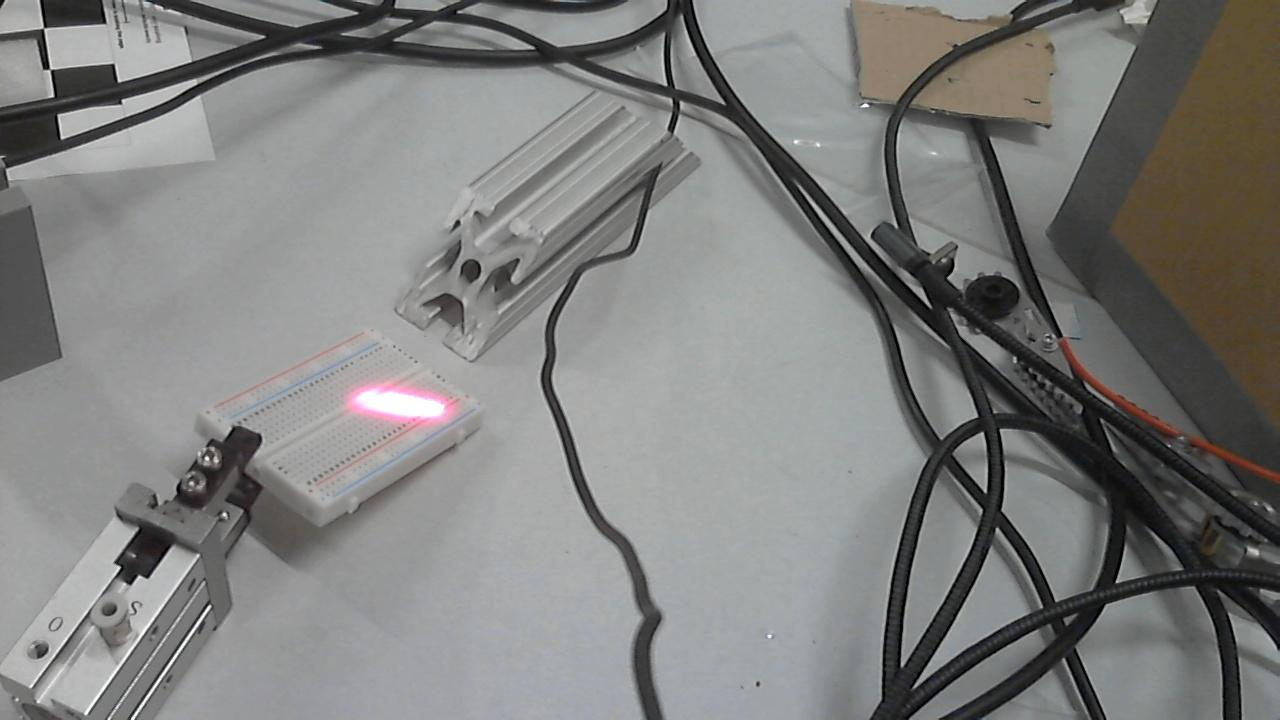Object breadboard - Material plastic - Color white - Pdfname UT1NgGrFNbGM: (334, 367, 463, 439)
